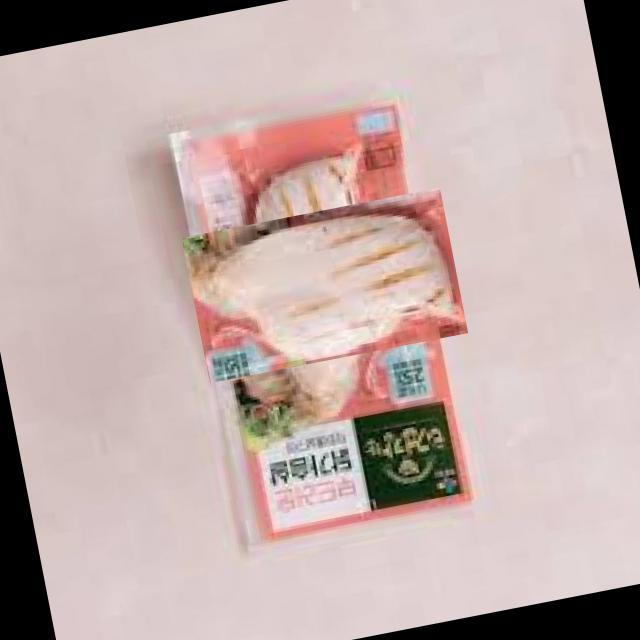chicken: (204, 165, 446, 406)
